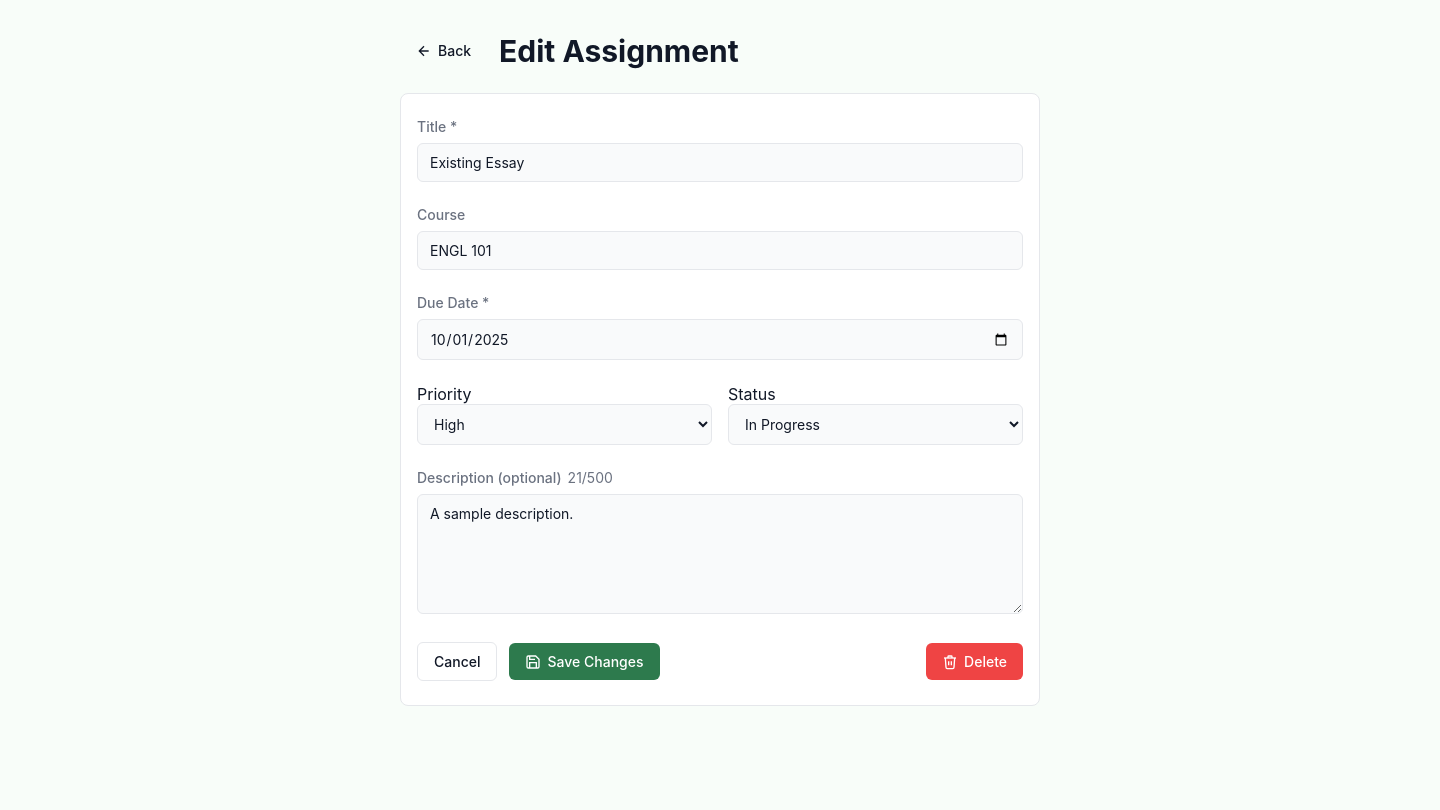
Scenario: AssignmentFormPage — edit assignment › closes delete modal when cancel is clicked
Expected: the heading "Edit Assignment" is shown, [499,32,739,68]
Click the button "Delete" at {"x": 975, "y": 662}, box [926,643,1023,680]
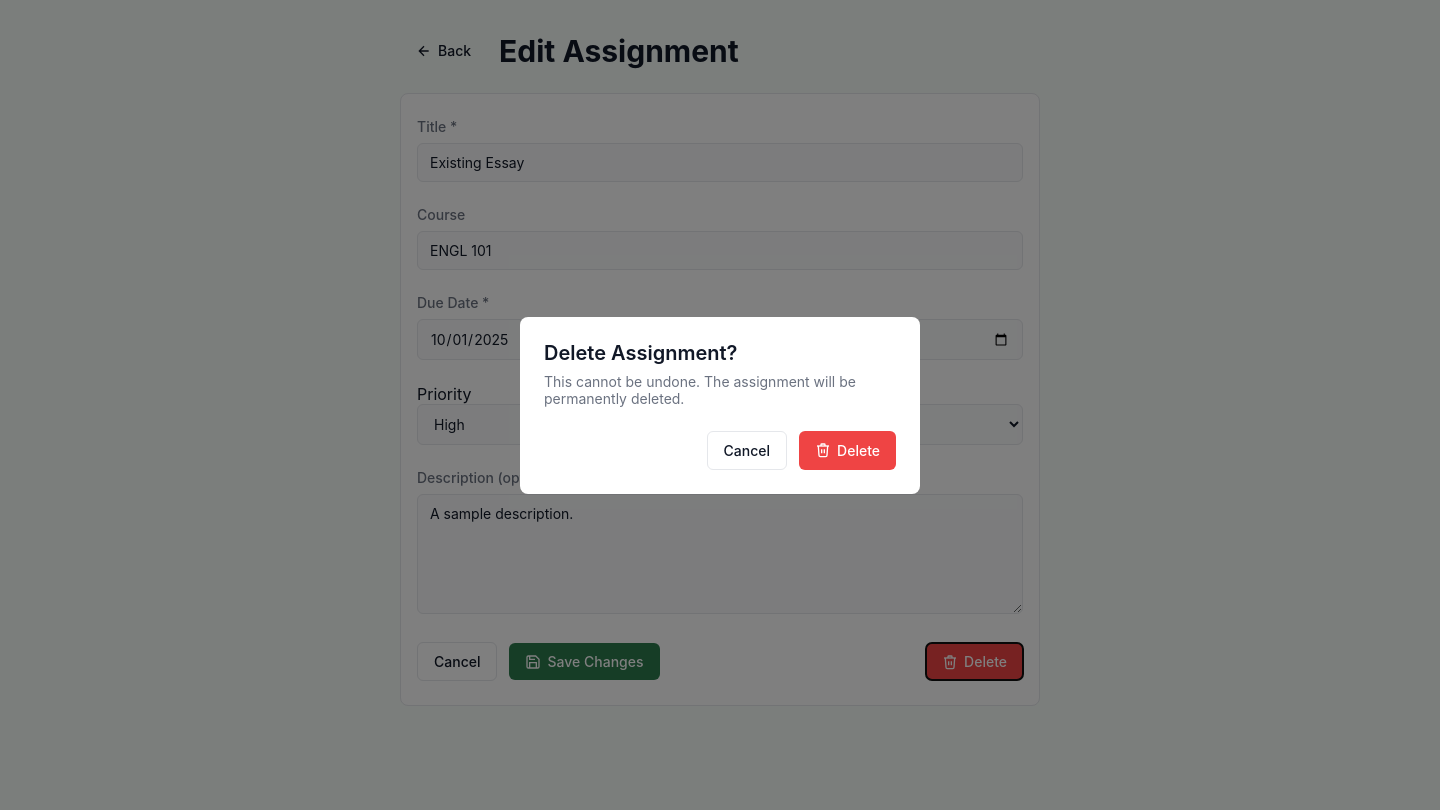
Click the button "Cancel" at {"x": 747, "y": 450}, box [707,430,787,470]
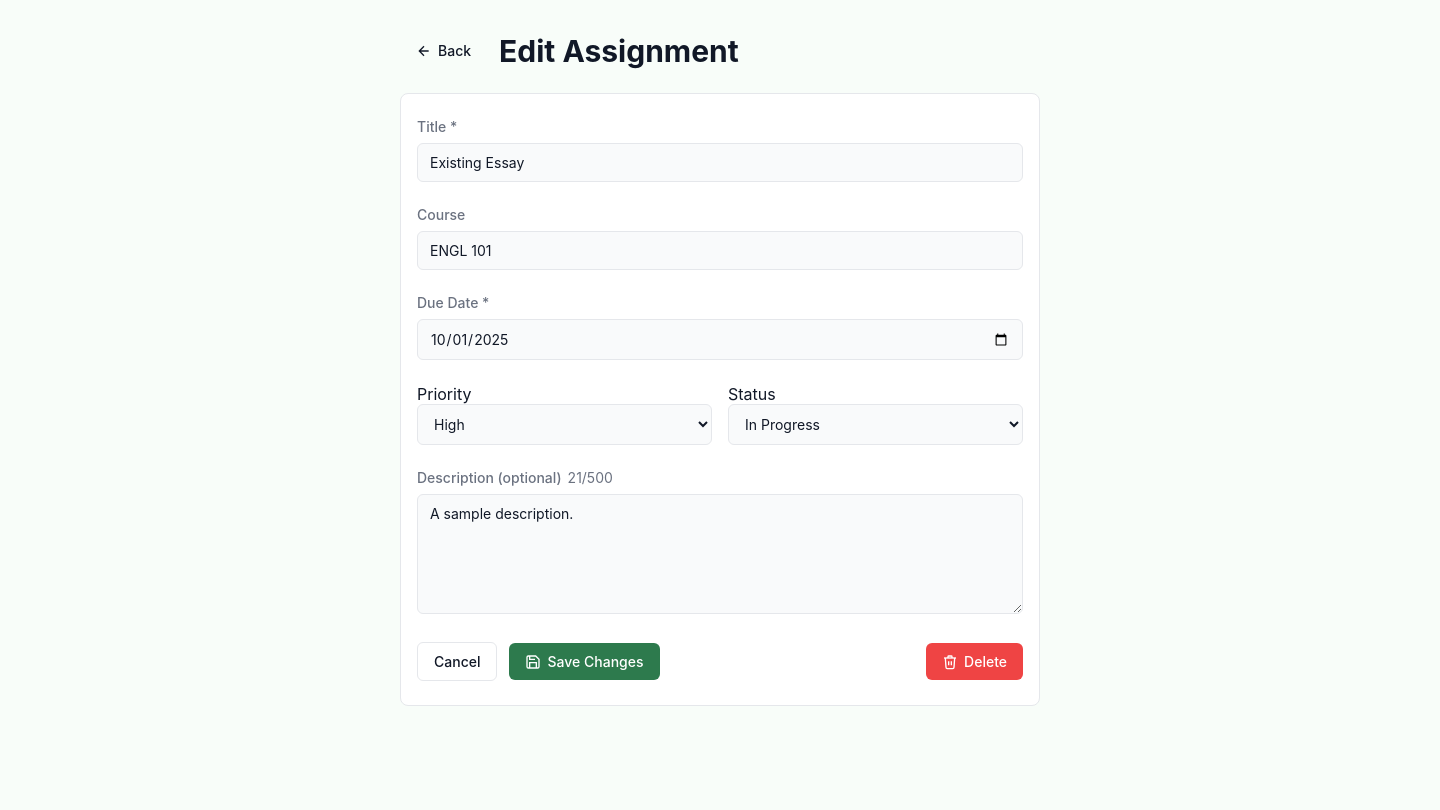
Now the heading "Delete Assignment?" is gone
